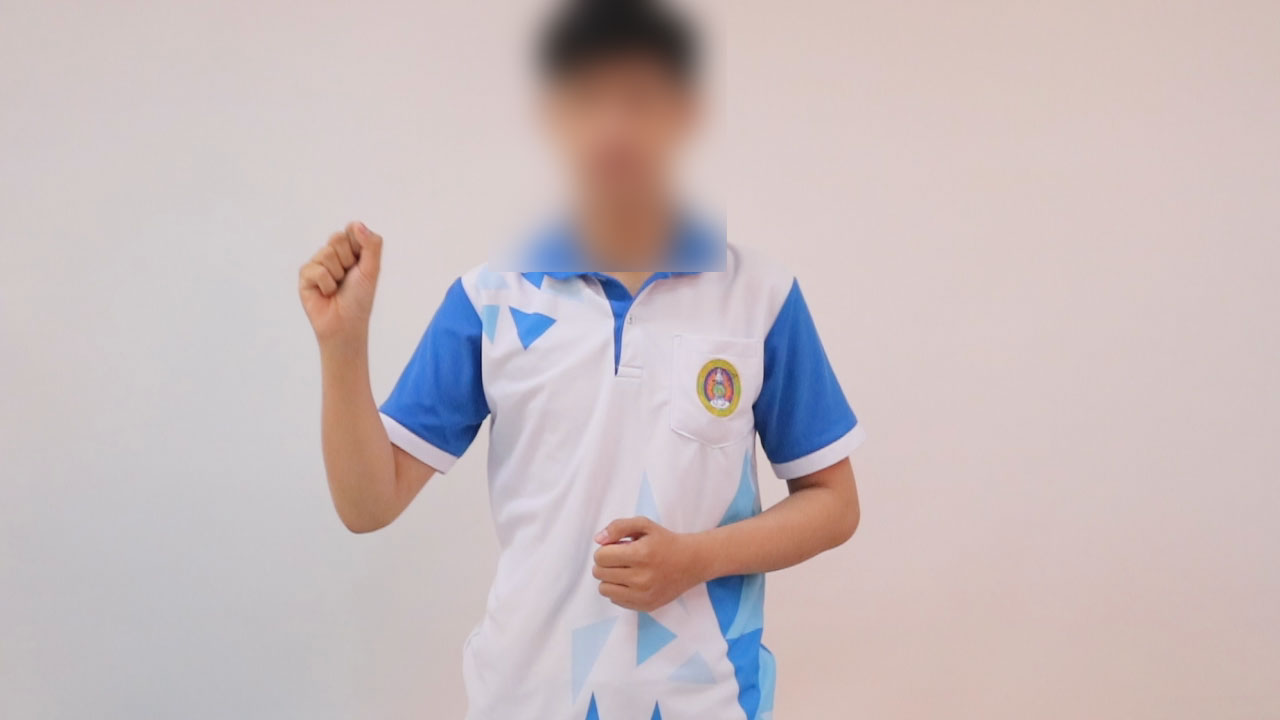sor: (286, 207, 400, 345)
